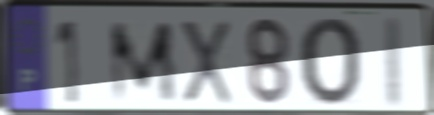1: (52, 18, 81, 106)
8: (245, 16, 291, 109)
I: (382, 14, 405, 111)
M: (107, 18, 181, 106)
O: (297, 16, 363, 110)
X: (177, 17, 234, 107)
